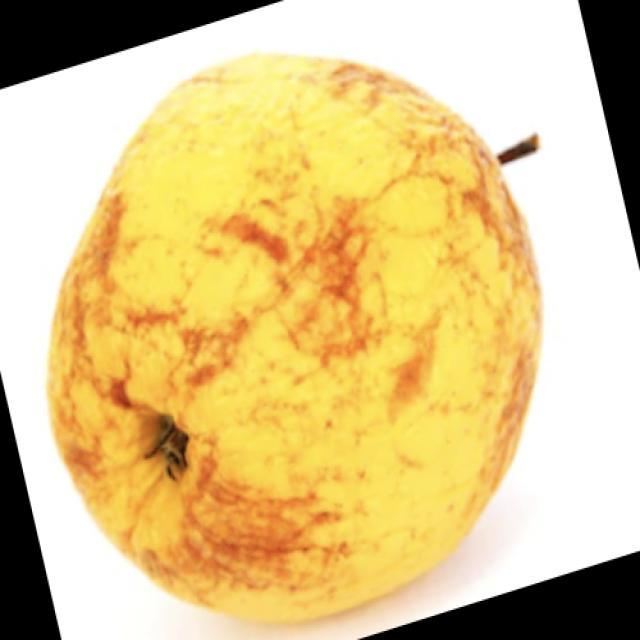Rotten: (41, 50, 542, 612)
